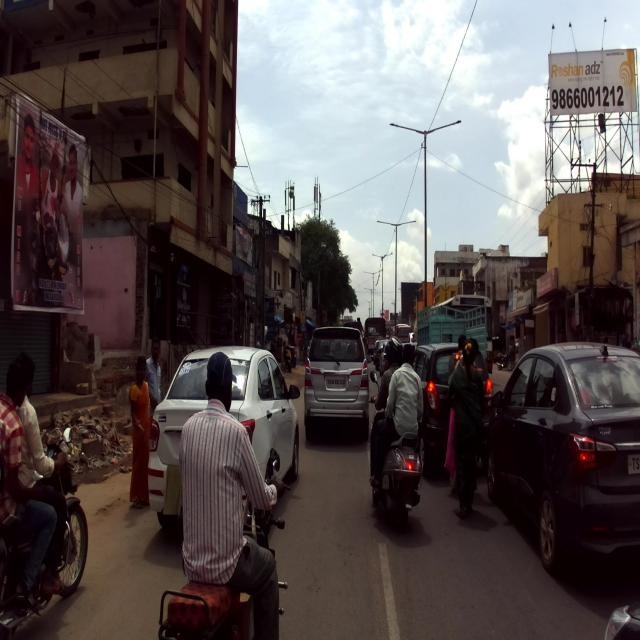car: (480, 340, 640, 580), (148, 344, 300, 540), (410, 342, 495, 479), (303, 326, 373, 444)
motorcycle: (156, 454, 288, 639), (0, 422, 88, 639)
scooter: (368, 368, 422, 527)
